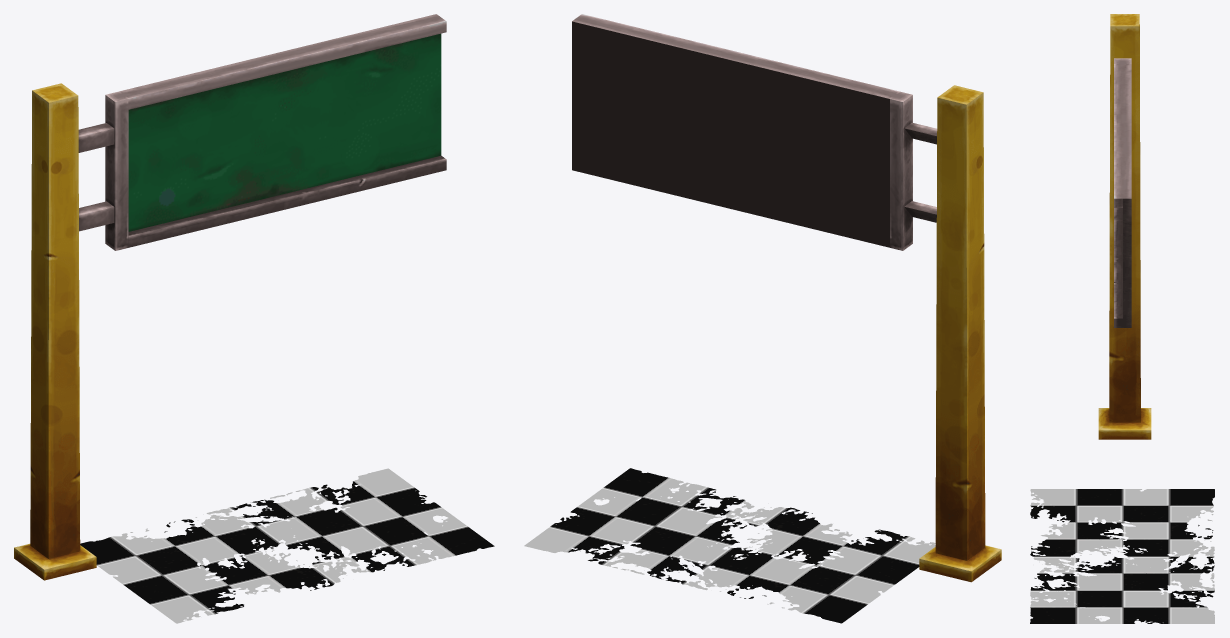
File: prop_finish_side.fbx
The picture shows the model from 3 angles, left to right: view 1: azimuth 30°, elevation 25°; view 2: azimuth 150°, elevation 25°; view 3: azimuth 270°, elevation 25°; orthographic projection. The views are drawn at different scales.
Visible parts, largest first — view 1: goal_side, goal_side_transparent; view 2: goal_side, goal_side_transparent; view 3: goal_side_transparent, goal_side.
Part boxes in pixels (bbox=[...]): goal_side: bbox=[14, 14, 446, 580]; goal_side_transparent: bbox=[80, 468, 494, 623]; goal_side: bbox=[572, 14, 1001, 582]; goal_side_transparent: bbox=[524, 468, 935, 623]; goal_side_transparent: bbox=[1030, 489, 1214, 623]; goal_side: bbox=[1098, 14, 1151, 439].
Bounding box in the file's own units: 86.16 × 102 × 38.84.
1 material, 1 textured.
